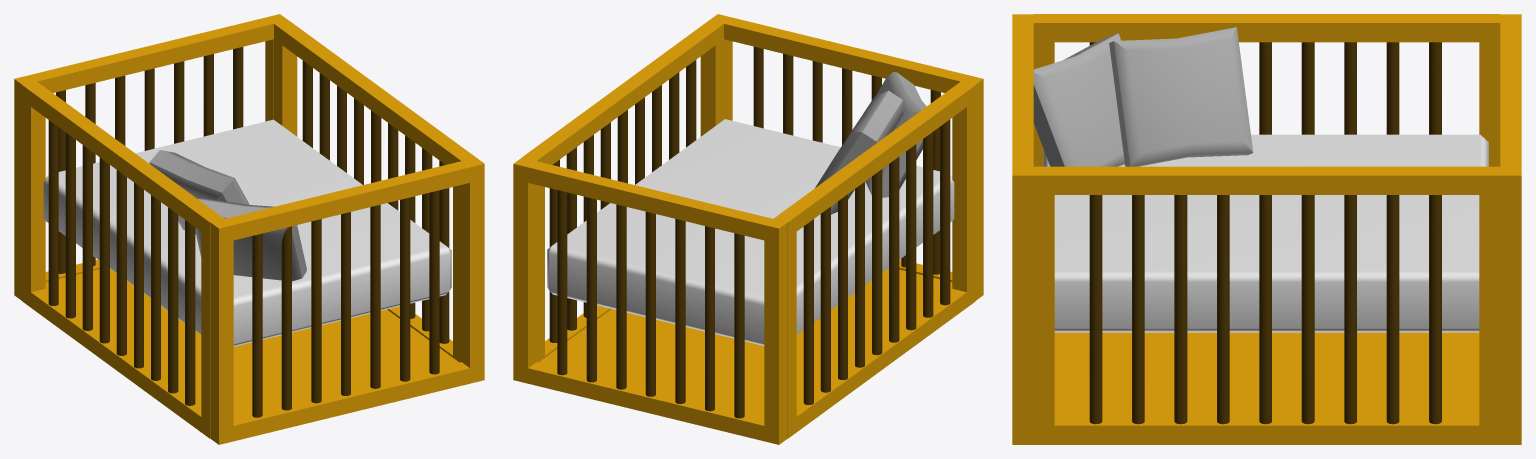
The model's file is BabeBed.fbx.
3 views of the same model, side by side, from view 1: azimuth 30°, elevation 25°; view 2: azimuth 150°, elevation 25°; view 3: azimuth 270°, elevation 25° (orthographic). The views are drawn at different scales.
Visible parts, largest first — view 1: BabyBedWithPillow; view 2: BabyBedWithPillow; view 3: BabyBedWithPillow.
Boxes of the visible parts, x1,y1,x2,y2 form: BabyBedWithPillow: (14,14,484,444); BabyBedWithPillow: (513,14,983,444); BabyBedWithPillow: (1012,14,1521,444).
Bounding box in the file's own units: 90.17 × 71.6 × 120.
